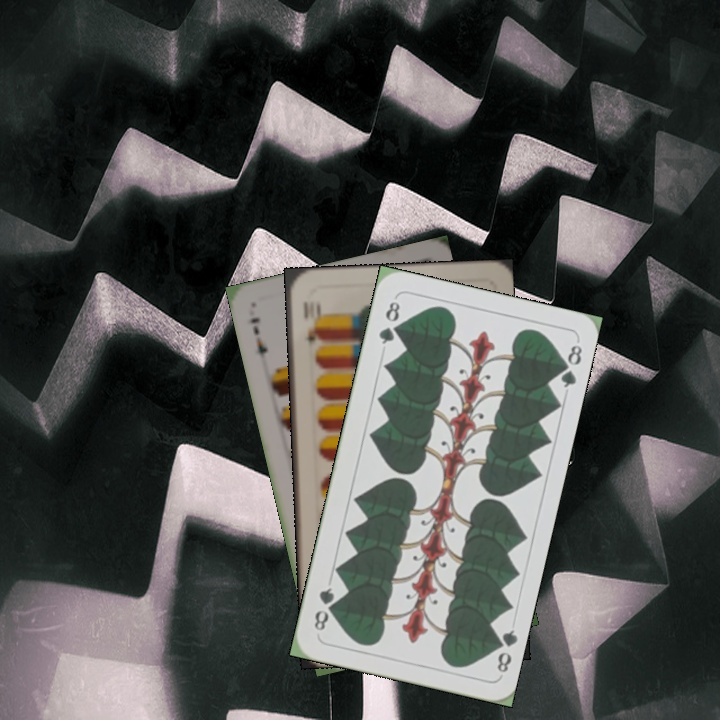E10: (299, 297, 321, 344)
E7: (246, 313, 271, 358)
G8: (488, 625, 520, 675), (374, 297, 403, 347)
